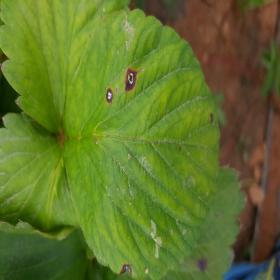Leaf Spot: (62, 9, 220, 279), (162, 166, 248, 279)
